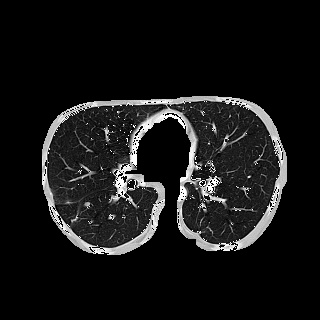PN: (84, 201, 90, 207)
